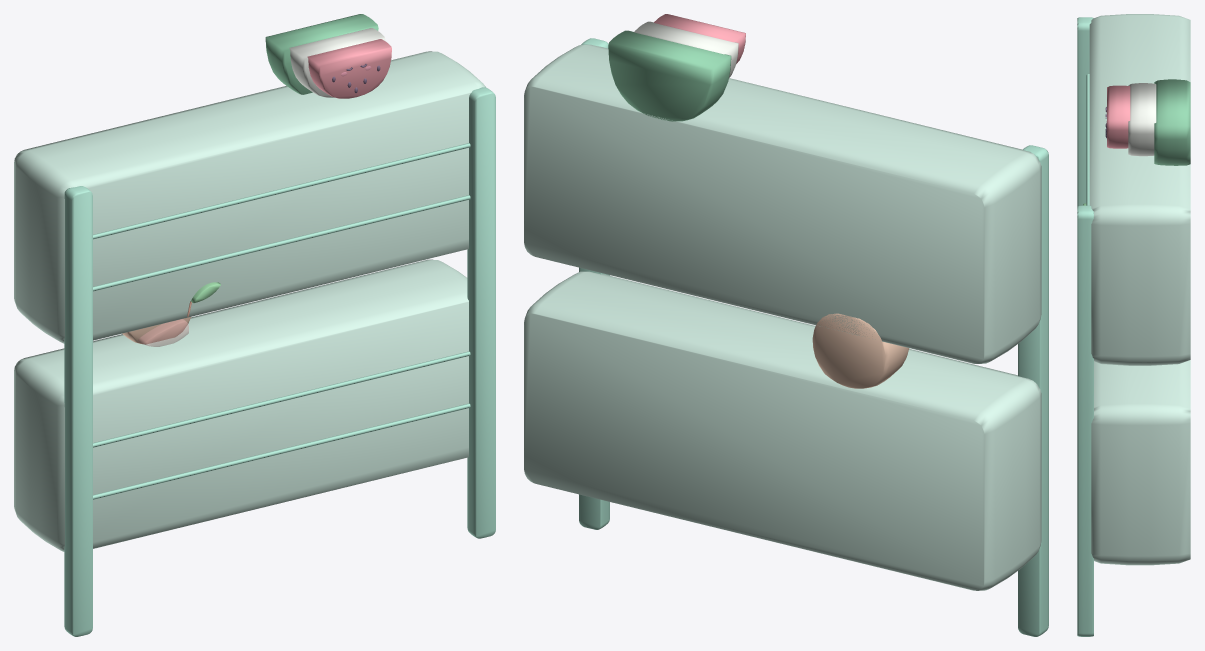
Rendered from decor_1_mint.glb.
3 renders of one model, left to right at view 1: azimuth 30°, elevation 25°; view 2: azimuth 150°, elevation 25°; view 3: azimuth 270°, elevation 25°, orthographic. The views are drawn at different scales.
Visible parts, largest first — view 1: decor_1_mint; view 2: decor_1_mint; view 3: decor_1_mint.
Boxes of the visible parts, bbox=[...] form: decor_1_mint: bbox=[14, 14, 495, 636]; decor_1_mint: bbox=[524, 14, 1048, 636]; decor_1_mint: bbox=[1077, 14, 1190, 636].
Bounding box in the file's own units: 17.42 × 19.18 × 4.11.
